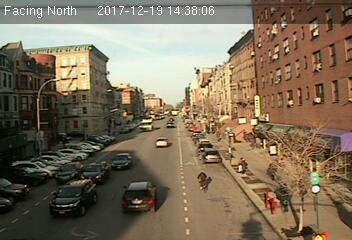bicycle: (195, 168, 209, 193)
car: (51, 180, 96, 216), (119, 179, 159, 214), (80, 160, 109, 184), (54, 161, 84, 182), (109, 152, 131, 170), (202, 148, 221, 164), (154, 136, 169, 148)
pedestrian: (238, 156, 247, 176)
